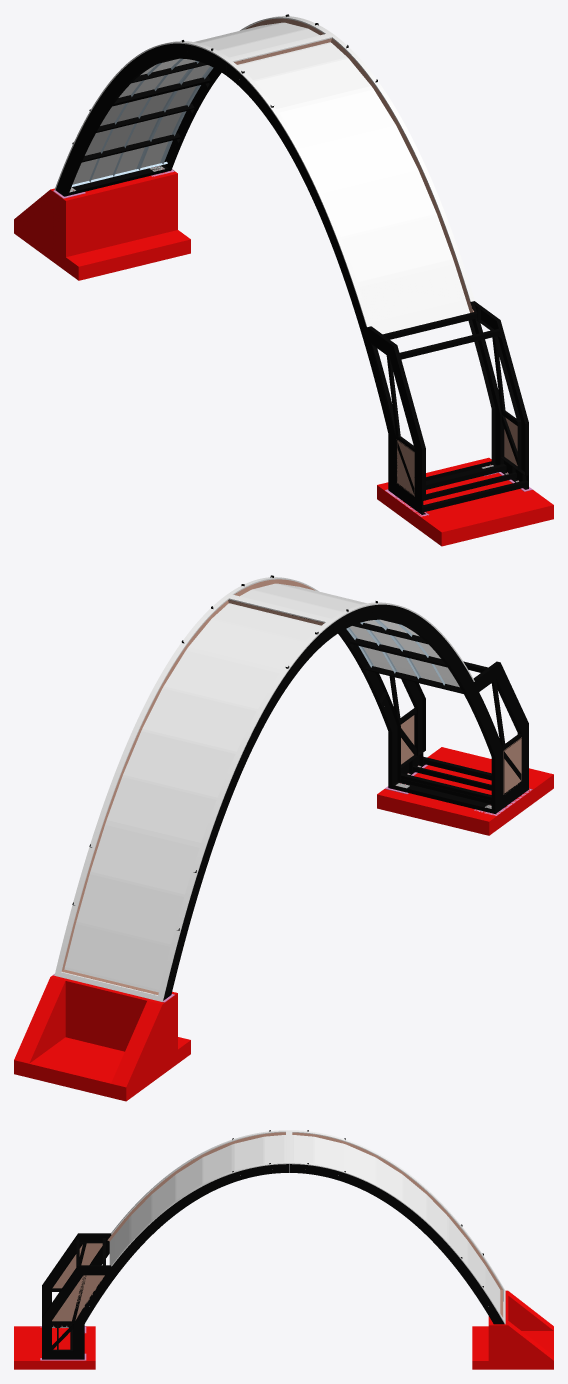
3 renders of one model, top to bottom at view 1: azimuth 30°, elevation 25°; view 2: azimuth 150°, elevation 25°; view 3: azimuth 270°, elevation 25°, orthographic. The views are drawn at different scales.
Bounding box in the file's own units: 2.5 × 6.94 × 16.5.
